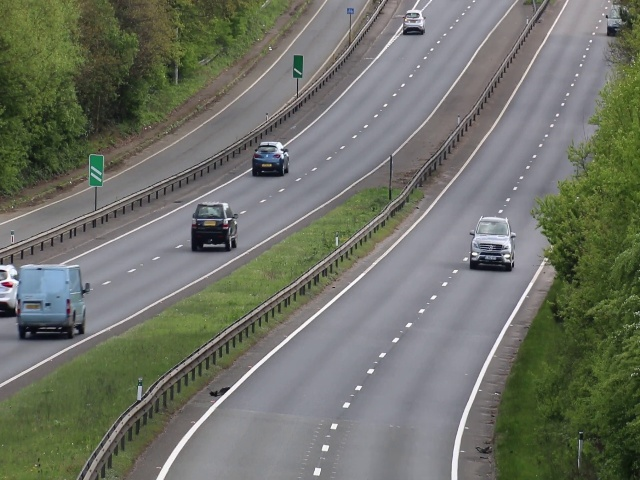car: (17, 265, 88, 342), (469, 215, 516, 273), (189, 200, 239, 251), (252, 141, 291, 175), (402, 8, 425, 34)
